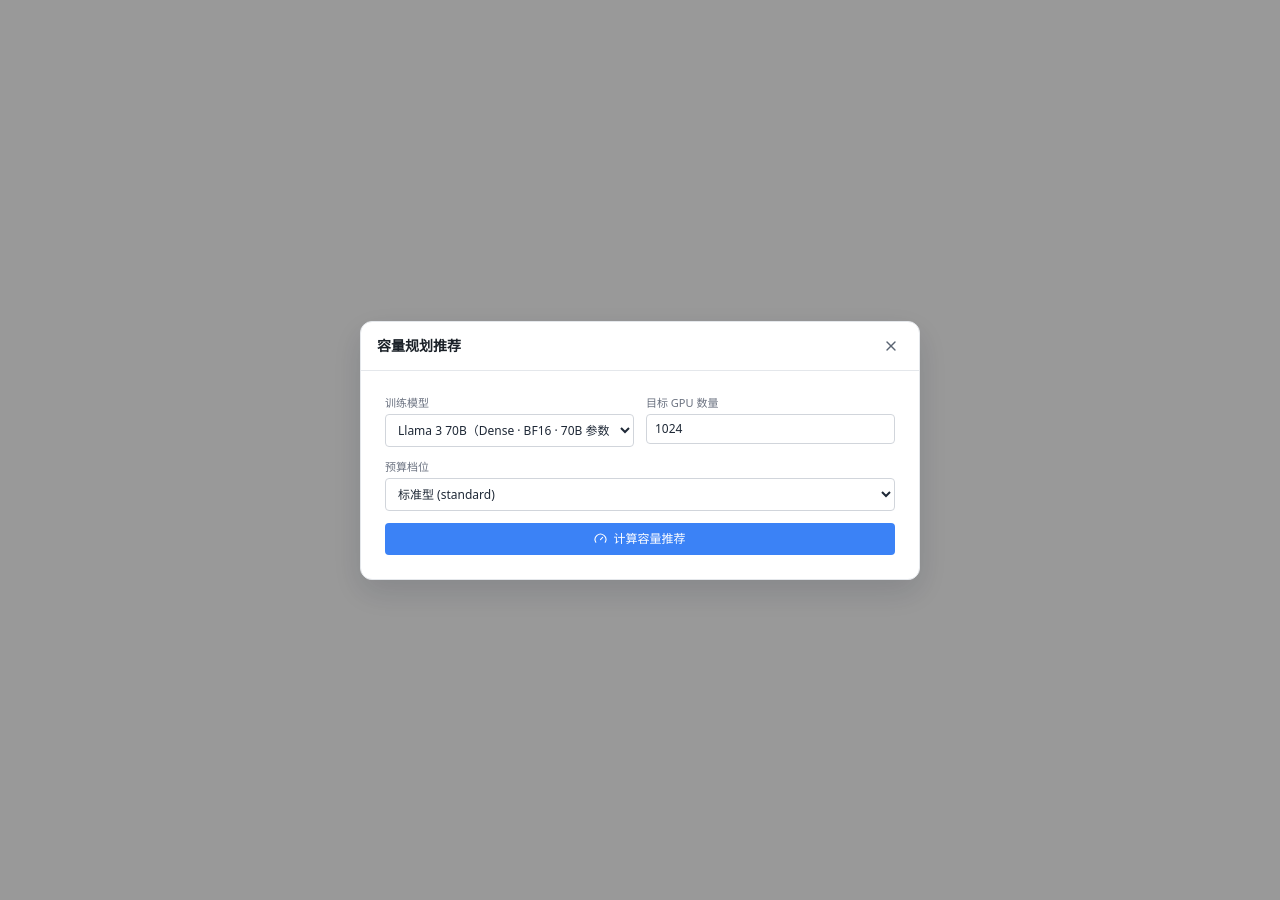
CapacityRecommendModal › V3.2.0-T9-1: FP8 精确通信 + Pipeline 显存 + TCO 成本展示
Click the button "计算容量推荐" at [640, 538], box [385,522,895,554]
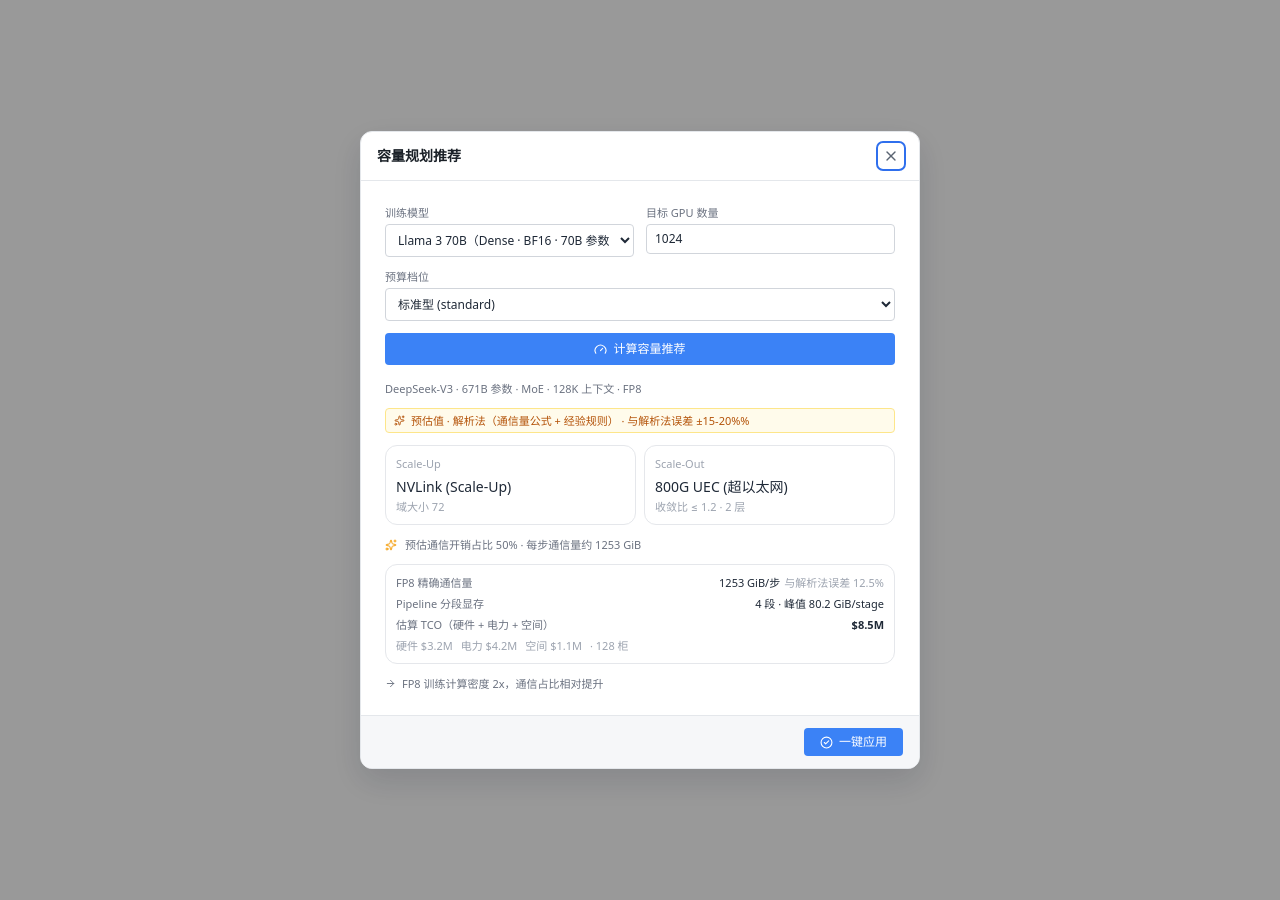
Now the text "FP8 精确通信量" is shown, box [396,575,472,590]
Now the text "与解析法误差 12.5%" is shown, box [784,575,884,590]
Now the text "4 段 · 峰值 80.2 GiB/stage" is shown, box [755,596,884,611]
